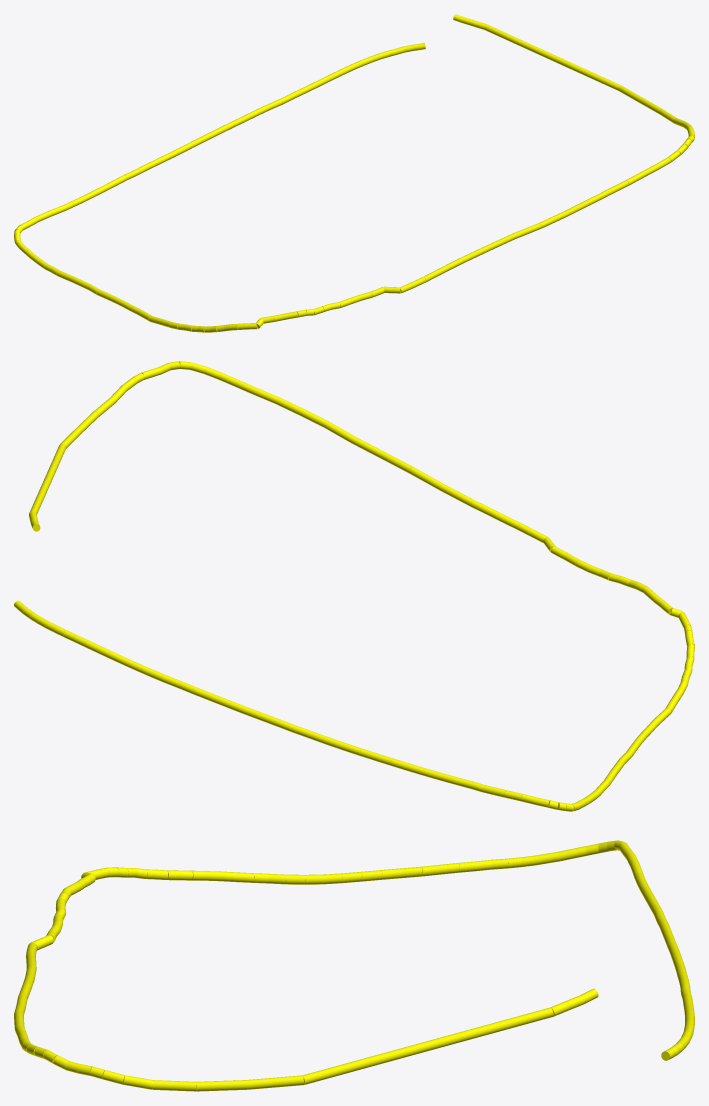
3 views of the same model, one above another, from view 1: azimuth 30°, elevation 25°; view 2: azimuth 150°, elevation 25°; view 3: azimuth 270°, elevation 25° (orthographic). The views are drawn at different scales.
Visible parts, largest first — view 1: Cylinder(Clone); view 2: no part large enough to name; view 3: Cylinder(Clone) (×4).
Part boxes in pixels (box(x1,y1,x2,y2)): Cylinder(Clone): box(484, 24, 620, 90); Cylinder(Clone) (×4): box(152, 1007, 553, 1091).
Size of the model in its own units: 0.9549 by 0.2336 by 0.6911.
